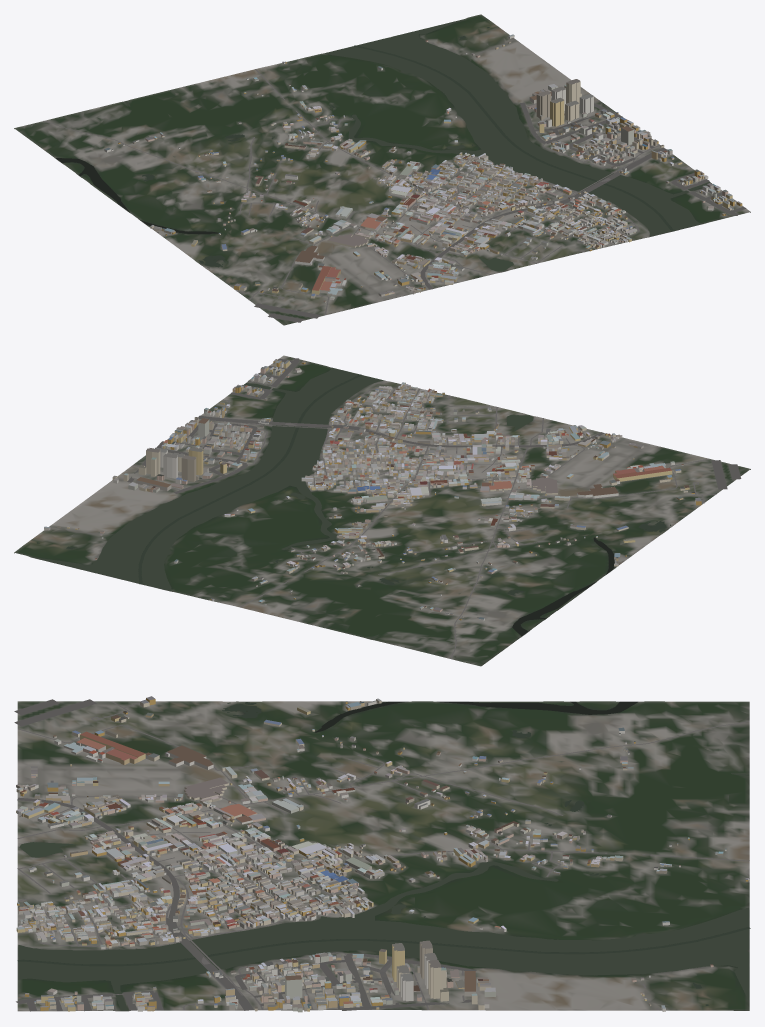
3 renders of one model, top to bottom at view 1: azimuth 30°, elevation 25°; view 2: azimuth 150°, elevation 25°; view 3: azimuth 270°, elevation 25°, orthographic. The views are drawn at different scales.
Parts seen in each view (by area): view 1: ground, buildings, water, roads; view 2: ground, buildings, water, roads; view 3: ground, buildings, water, roads.
Boxes of the visible parts, left/top/right/bottom form: ground: left=14, top=14, right=750, bottom=325; buildings: left=104, top=34, right=742, bottom=302; water: left=56, top=19, right=711, bottom=271; roads: left=43, top=38, right=746, bottom=322; ground: left=14, top=355, right=750, bottom=666; buildings: left=44, top=359, right=701, bottom=621; water: left=31, top=367, right=670, bottom=639; roads: left=50, top=358, right=741, bottom=659; ground: left=17, top=701, right=749, bottom=1011; buildings: left=16, top=696, right=749, bottom=1012; water: left=17, top=701, right=750, bottom=1010; roads: left=14, top=699, right=749, bottom=1011.
Size of the model in its own units: 1418 by 73.31 by 1410.
